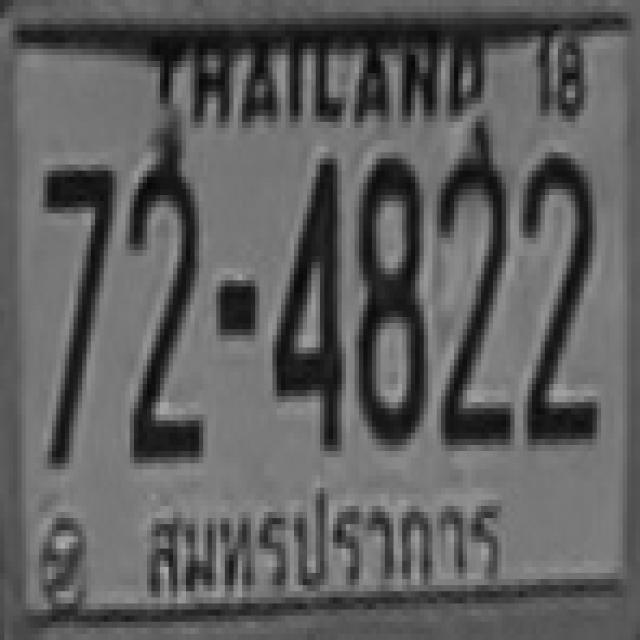2: (521, 155, 595, 442), (125, 180, 199, 460), (519, 149, 592, 424), (435, 146, 508, 421), (435, 168, 508, 442), (128, 158, 196, 433), (519, 150, 592, 400)
4: (268, 152, 342, 445)
7: (39, 162, 112, 454), (39, 164, 112, 414), (39, 162, 112, 344)
8: (354, 152, 424, 439)
SamutPrakan: (142, 470, 520, 614)
